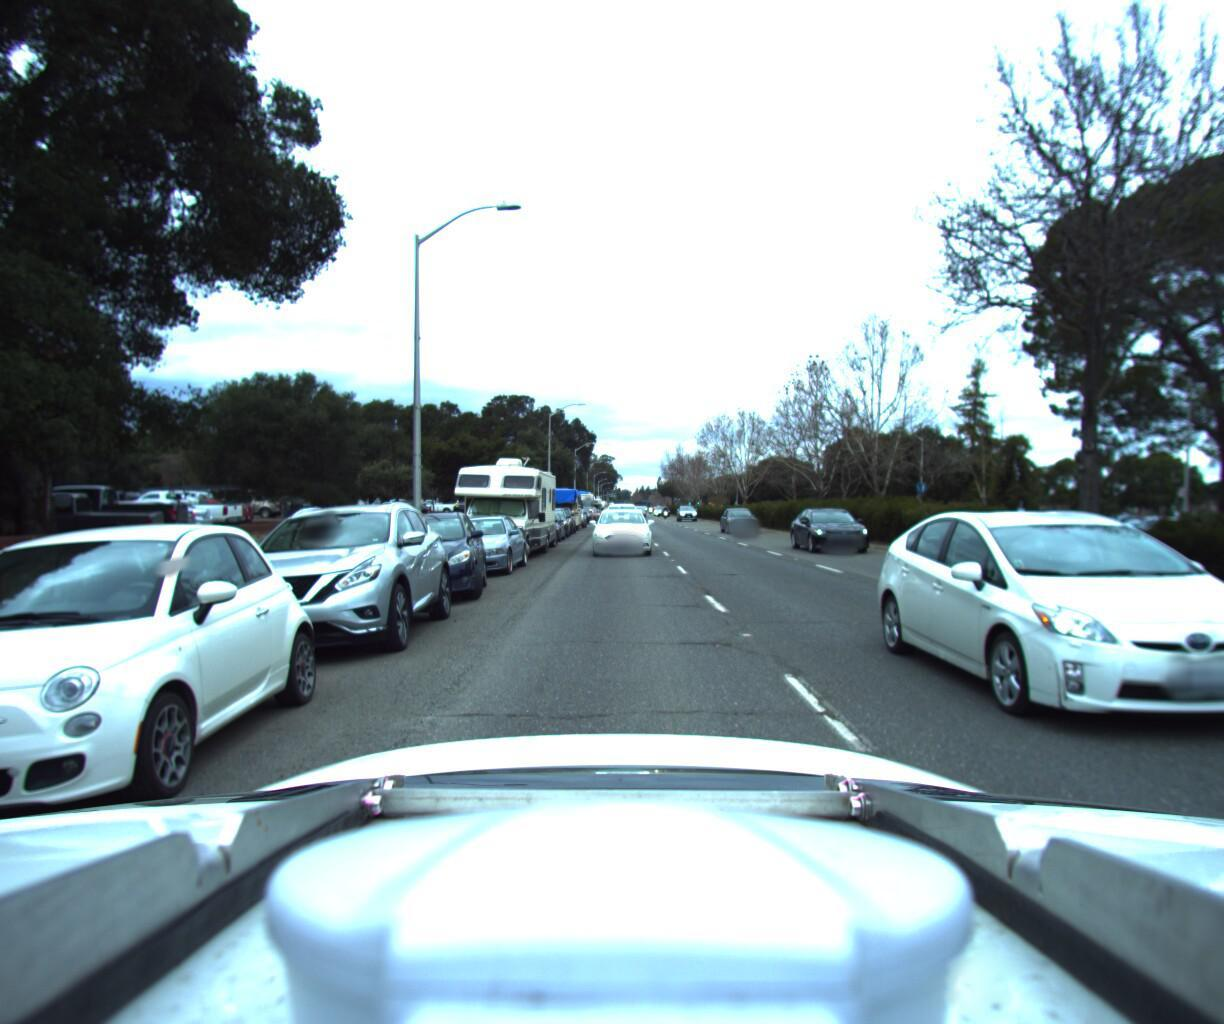car: (0, 511, 333, 876), (903, 498, 1224, 839), (185, 489, 460, 680), (359, 503, 488, 608), (0, 477, 195, 542), (0, 486, 172, 549), (428, 505, 531, 577), (790, 498, 883, 552), (590, 501, 652, 554), (521, 504, 566, 538), (533, 498, 571, 532), (719, 501, 762, 531), (676, 498, 699, 513)
other_vehicle: (438, 442, 559, 559), (536, 478, 583, 525), (567, 480, 594, 516)
